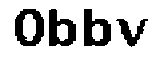0: (11, 7, 45, 47)
b: (80, 7, 113, 50), (48, 6, 77, 50)
v: (115, 16, 148, 51)
